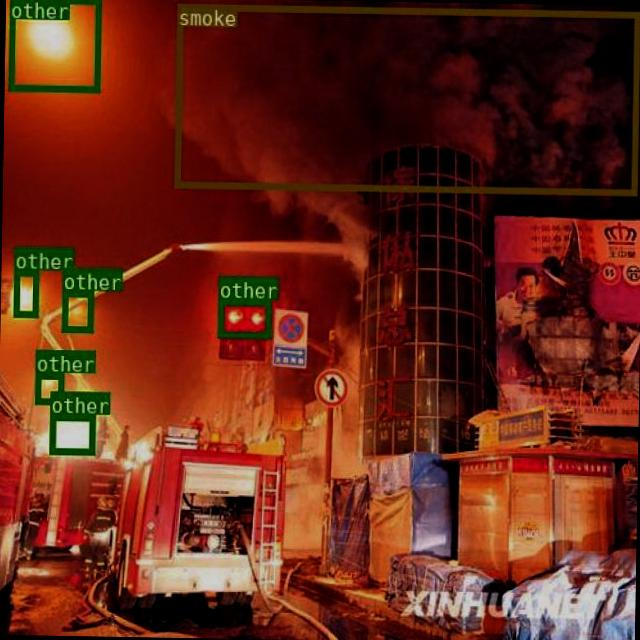smoke: (173, 2, 638, 194)
